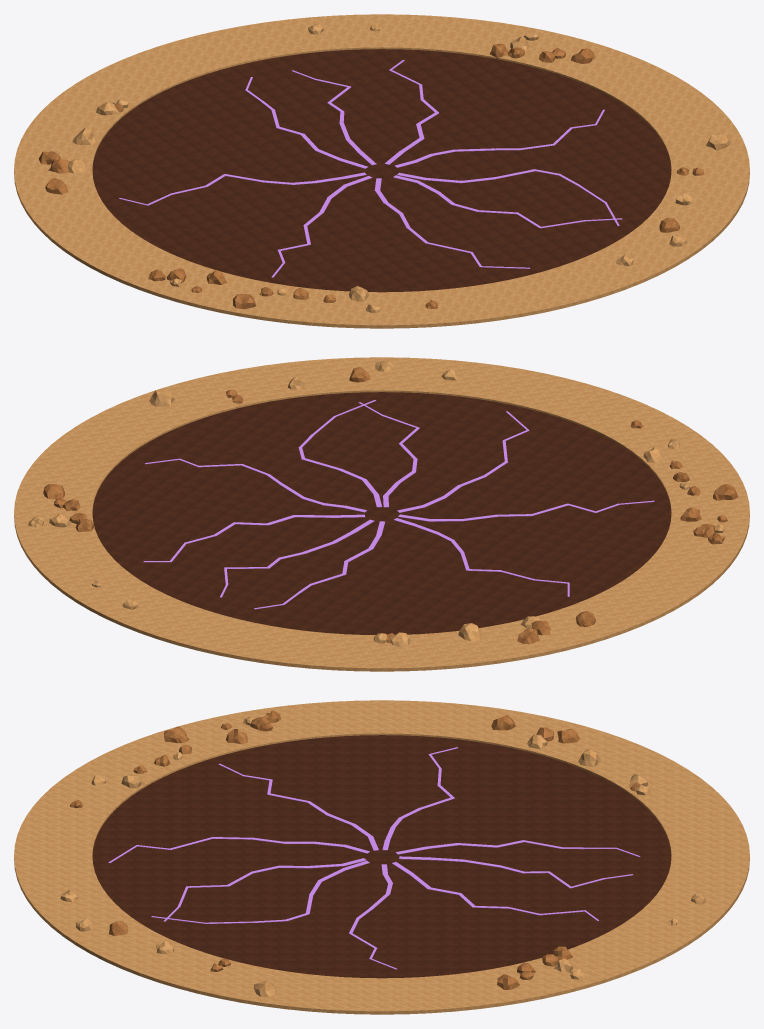
Rendered from CF_MonsterRoomFloor.fbx.
The picture shows the model from 3 angles, top to bottom: view 1: azimuth 30°, elevation 25°; view 2: azimuth 150°, elevation 25°; view 3: azimuth 270°, elevation 25°; orthographic projection.
Visible parts, largest first — view 1: CF_MonsterRoomFloor; view 2: CF_MonsterRoomFloor; view 3: CF_MonsterRoomFloor.
Part boxes in pixels (<box>): CF_MonsterRoomFloor: <box>14,14,749,328</box>; CF_MonsterRoomFloor: <box>14,357,749,671</box>; CF_MonsterRoomFloor: <box>14,700,749,1014</box>.
Size of the model in its own units: 24.4 by 0.892 by 24.4.
